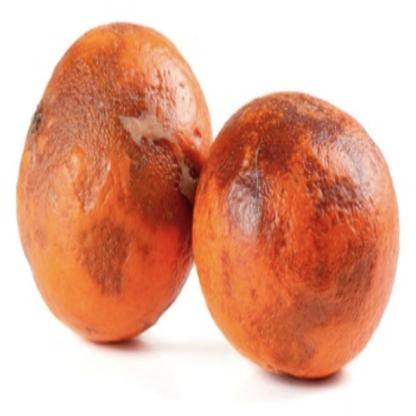rotten: (19, 21, 401, 381)
